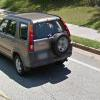Car: (2, 5, 75, 80)
